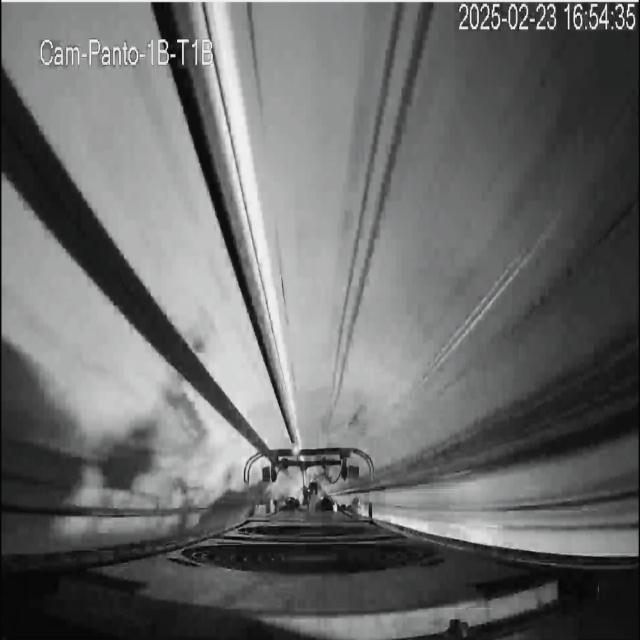Camera Stamp: (38, 31, 218, 70)
Date Stamp: (459, 3, 636, 33)
Sparks: (289, 433, 305, 466), (287, 426, 304, 457)
